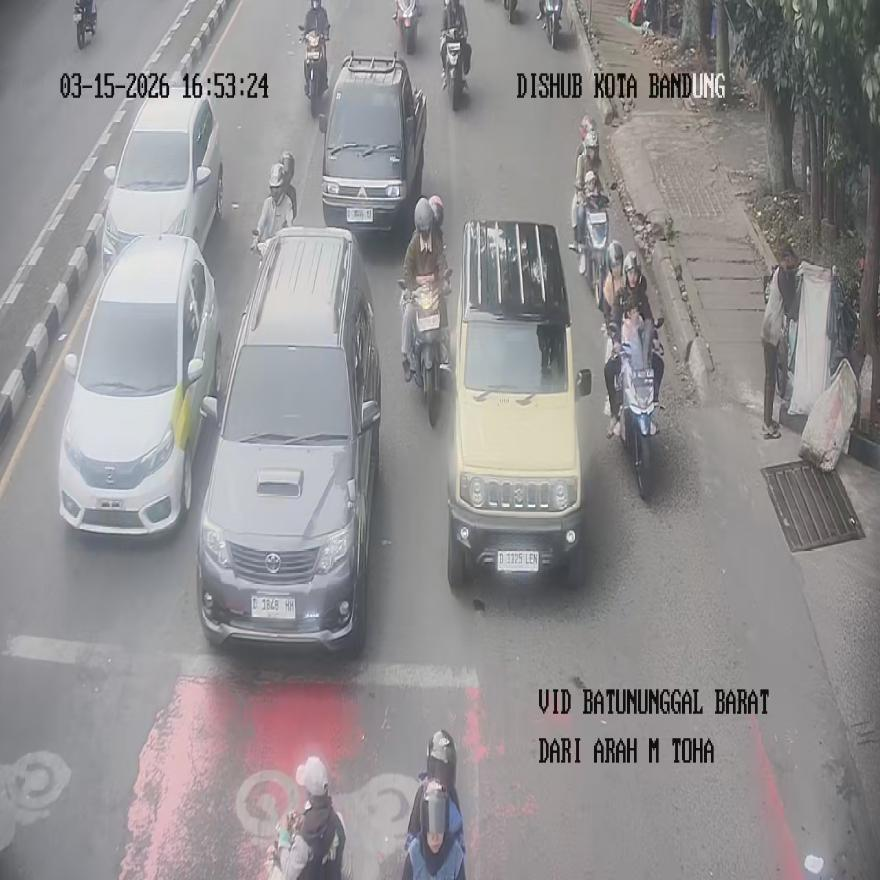Mobil: (195, 228, 380, 652), (443, 220, 592, 584), (57, 234, 220, 536), (100, 77, 222, 275), (319, 48, 427, 231)
Motor: (618, 320, 664, 499), (399, 270, 450, 427), (251, 152, 296, 260), (570, 122, 598, 251), (580, 196, 610, 309), (299, 26, 327, 116), (442, 28, 469, 108), (394, 0, 419, 54), (74, 0, 96, 49), (540, 0, 562, 49), (503, 0, 518, 24)
